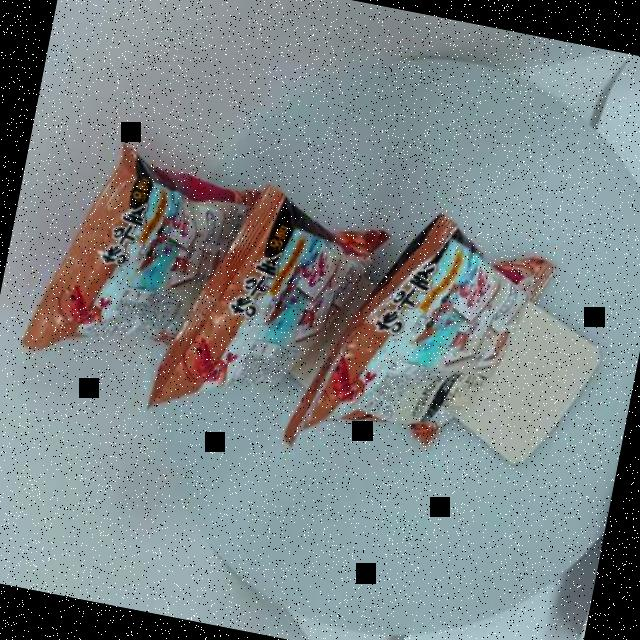snack_bag: (4, 120, 572, 496)
